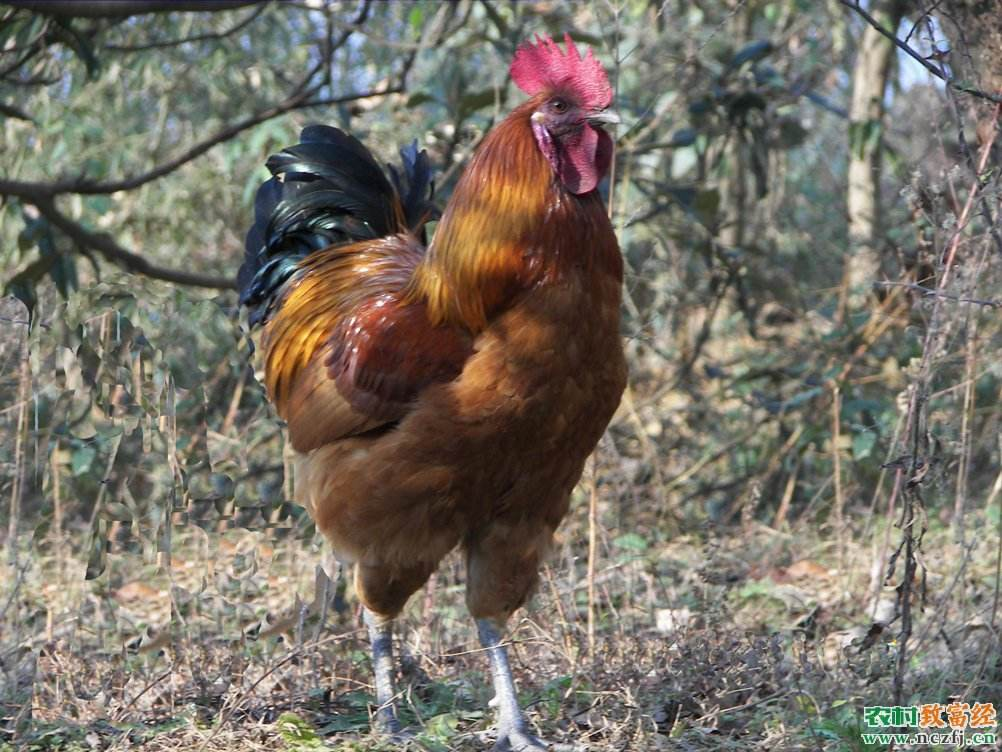chicken: (244, 33, 637, 752)
